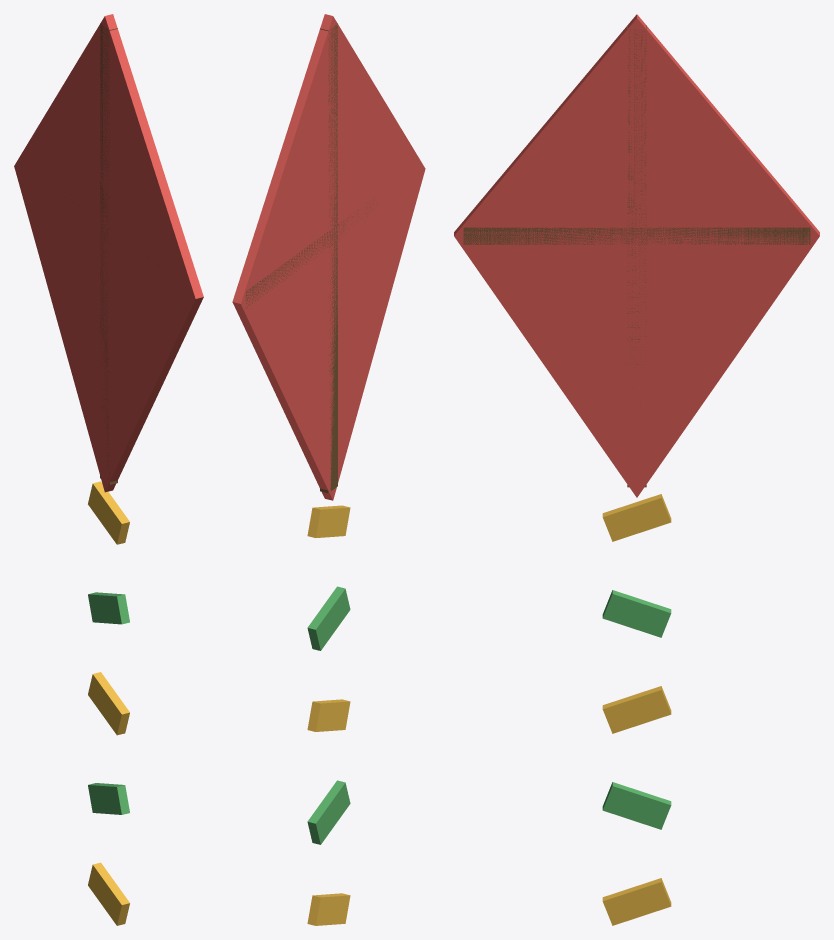
File: xy_item_kite.glb
3 renders of one model, left to right at view 1: azimuth 30°, elevation 25°; view 2: azimuth 150°, elevation 25°; view 3: azimuth 270°, elevation 25°, orthographic.
Visible parts, largest first — view 1: xy_item_kite; view 2: xy_item_kite; view 3: xy_item_kite.
Part boxes in pixels (left/top/right/bottom): xy_item_kite: left=14, top=14, right=203, bottom=925; xy_item_kite: left=232, top=14, right=425, bottom=925; xy_item_kite: left=454, top=14, right=819, bottom=925.
Bounding box in the file's own units: 0.02 × 2.08 × 0.76.
